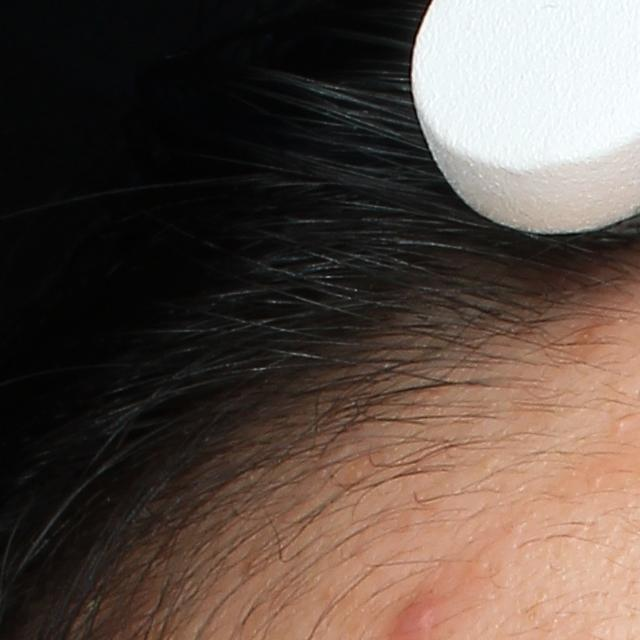comedo: (613, 415, 629, 430)
papule: (388, 600, 438, 640)
